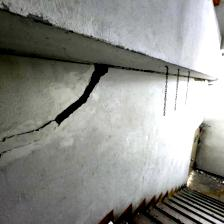High: (1, 54, 162, 162)
